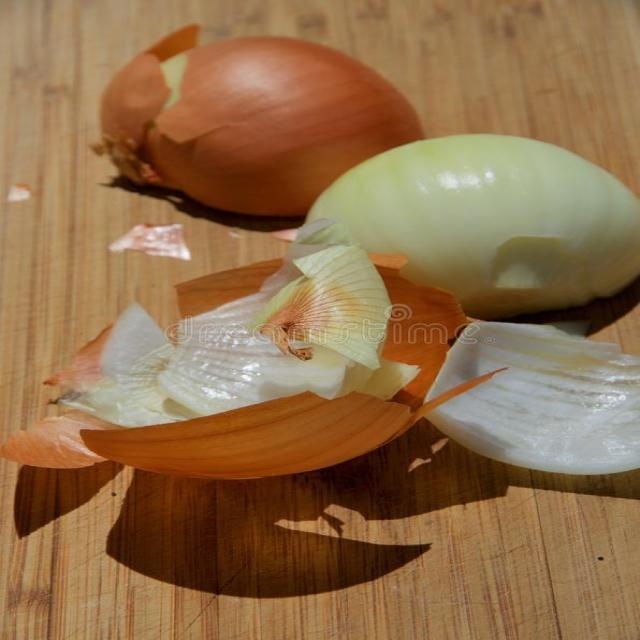Onion: (4, 245, 640, 484), (290, 131, 640, 318), (92, 26, 433, 214), (116, 222, 204, 262)
